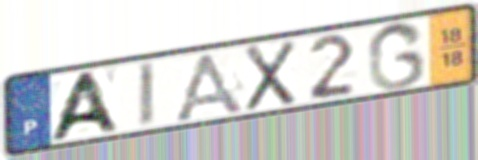2: (306, 31, 361, 104)
A: (43, 68, 124, 144), (169, 48, 250, 122)
G: (366, 19, 429, 92)
I: (135, 58, 158, 131)
X: (242, 37, 299, 115)
